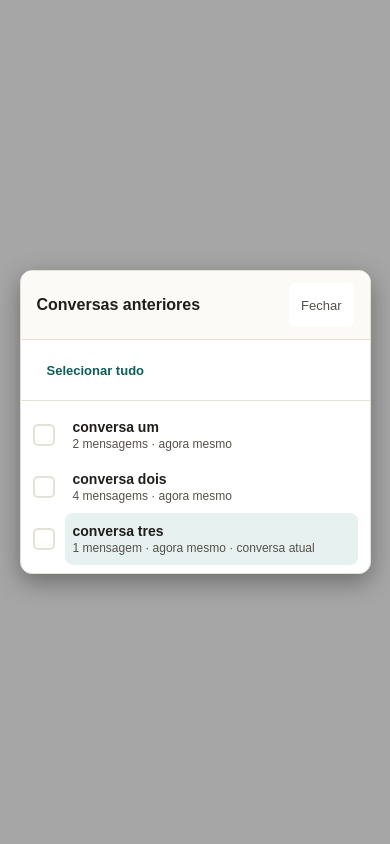
ConversationHistoryModal › seleção múltipla e exclusão em lote › excluir selecionadas apaga cada uma no backend e atualiza a lista
The width and height of the screenshot is (390, 844).
Click the checkbox named "Selecionar conversa: conversa um, 2 mensagens, agora mesmo".
click(44, 435)  # box [32, 424, 54, 446]
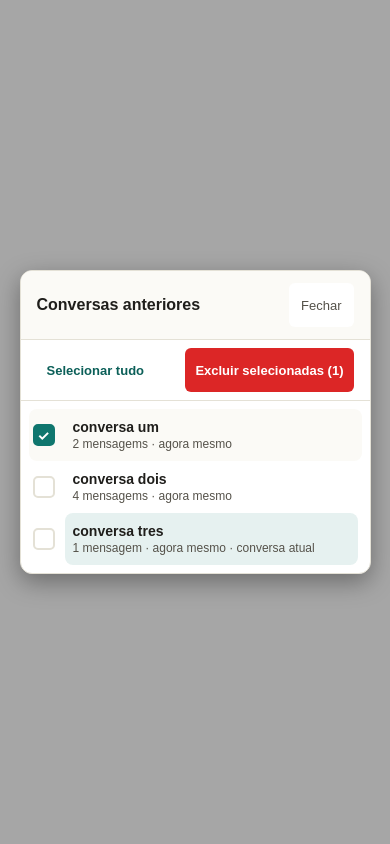
Click the checkbox named "Selecionar conversa: conversa dois, 4 mensagens, agora mesmo".
click(44, 487)  # box [32, 476, 54, 498]
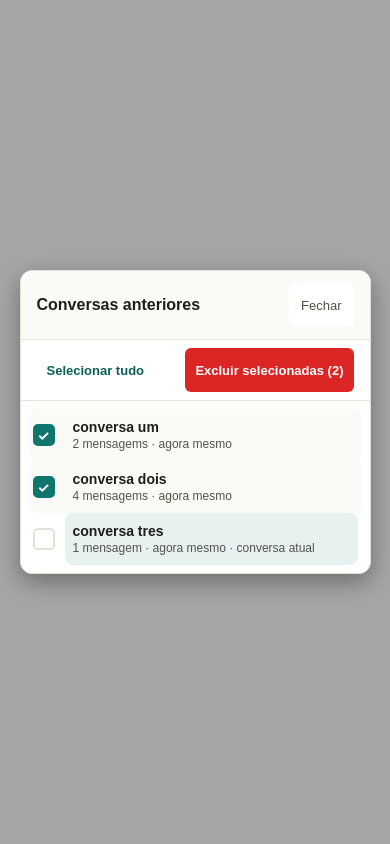
Click the button "Excluir selecionadas (2)".
click(269, 370)  # box [185, 348, 354, 392]
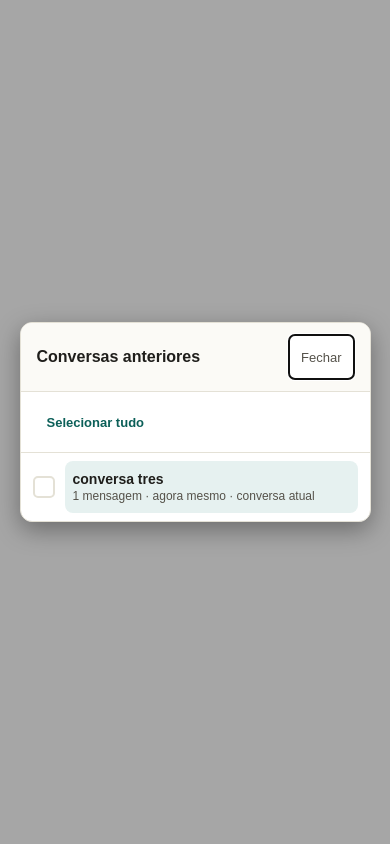
Now the text "conversa um" is gone
Now the text "Excluir selecionadas" is gone
